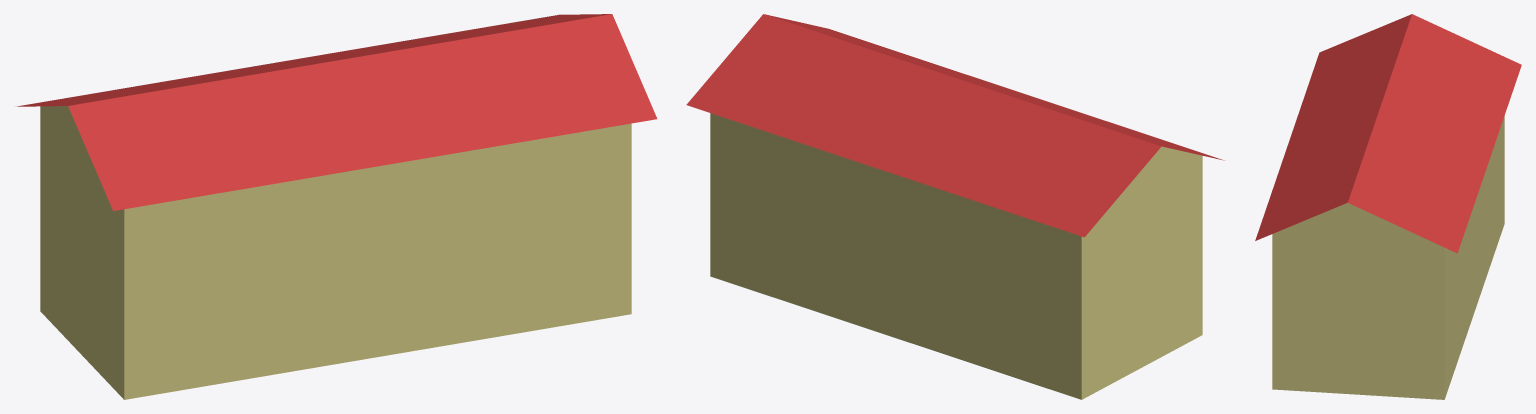
3 views of the same model, side by side, from view 1: azimuth 30°, elevation 25°; view 2: azimuth 150°, elevation 25°; view 3: azimuth 270°, elevation 25° (orthographic). The views are drawn at different scales.
Bounding box in the file's own units: 15.6 × 8.75 × 7.16.
